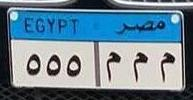5: (44, 53, 63, 81), (24, 52, 43, 80), (65, 53, 84, 79)
meem: (102, 47, 122, 84), (156, 50, 176, 85), (130, 48, 150, 83)
